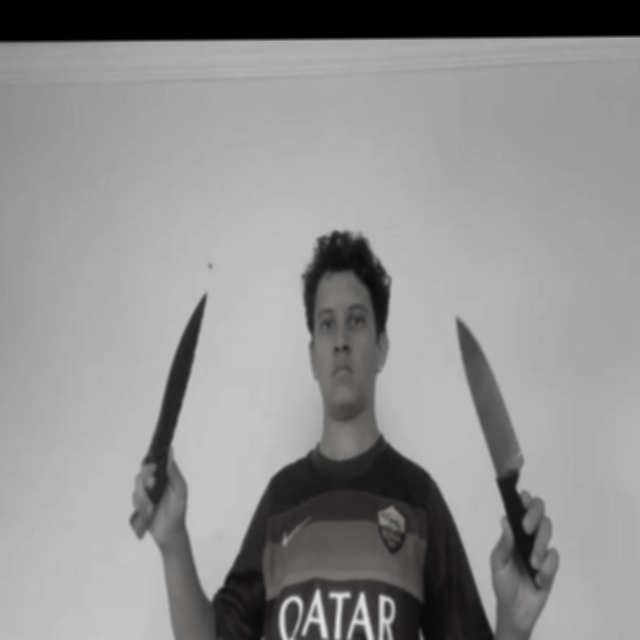Sharp-Object: (455, 312, 523, 468), (146, 288, 208, 458)
